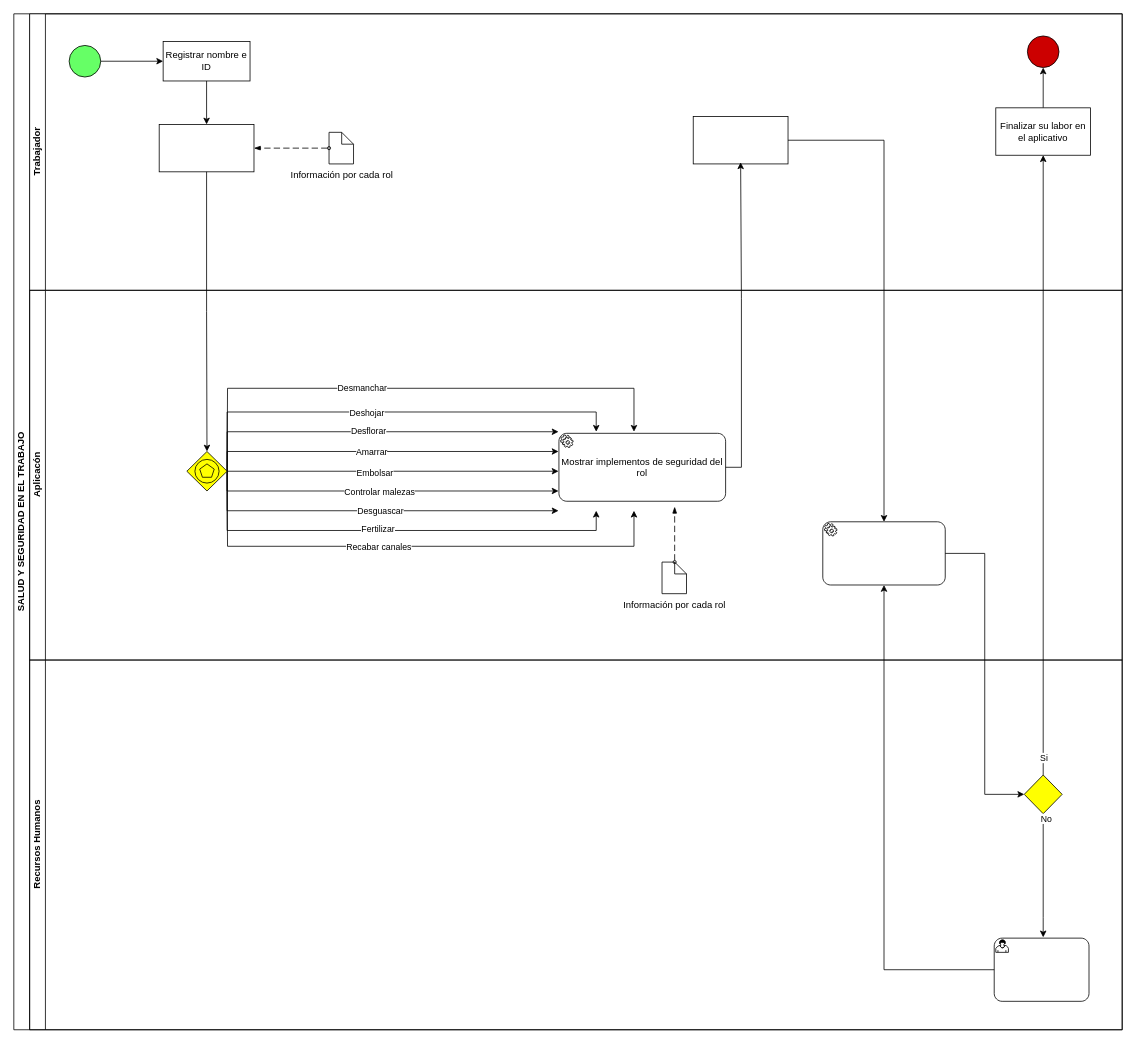
The diagram is 1136 pixels wide and 1044 high, and some of its shapes have lost their labels. Each missing label, with the centre of its shape:
Comprobar su buen uso después del tiempo promedio de la labor: (x=883, y=553)
Elegir el rol del día: (x=206, y=148)
llamar la ateneción al trabajor: (x=1041, y=969)
Mostrar implemento y el uso adecuado dependiendo del rol: (x=740, y=140)
